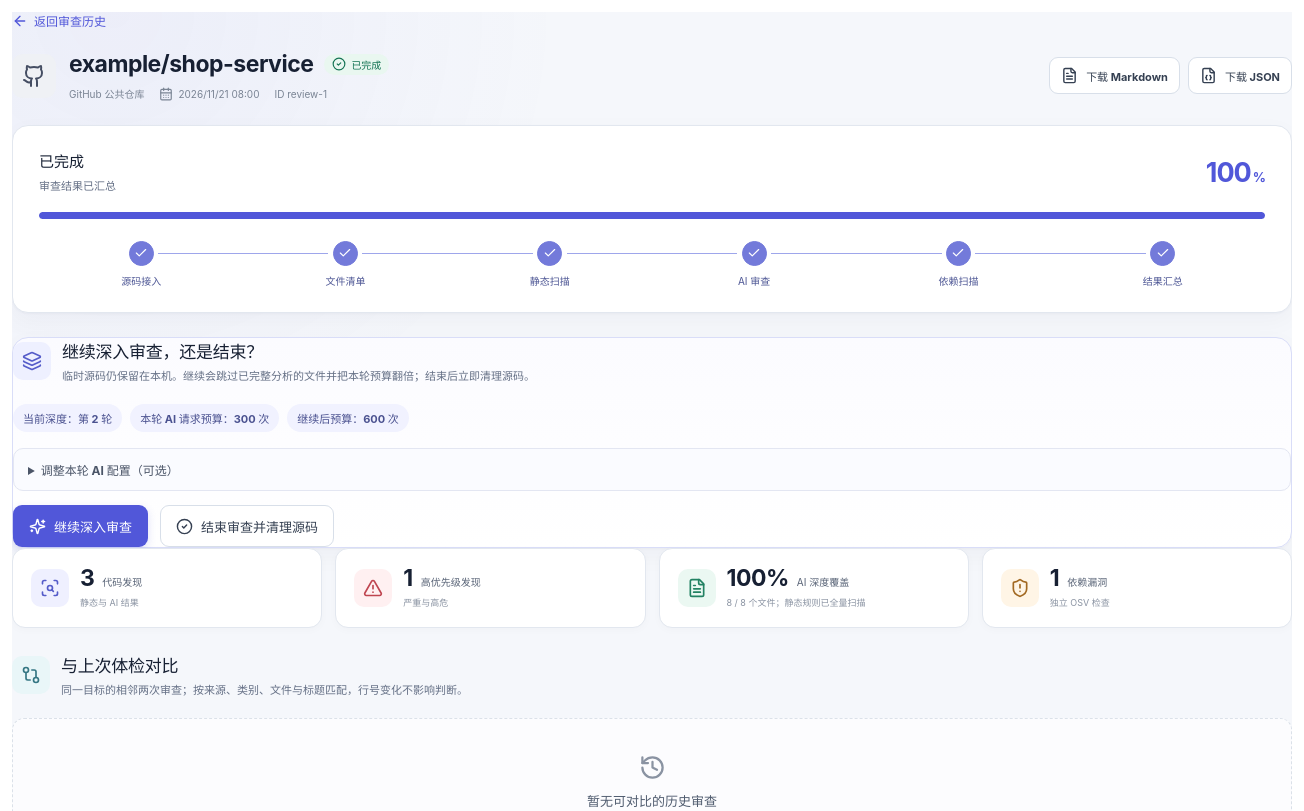
it: ReviewDetailPage › 首轮完成后提供继续深入与结束审查的选择
Check: the heading "继续深入审查，还是结束？" is shown, box 62,342 -> 263,362
Check: the text "当前深度：第 2 轮" is shown, box 13,404 -> 122,432
Click the button "结束审查并清理源码": (247, 526) 160,505 -> 334,547
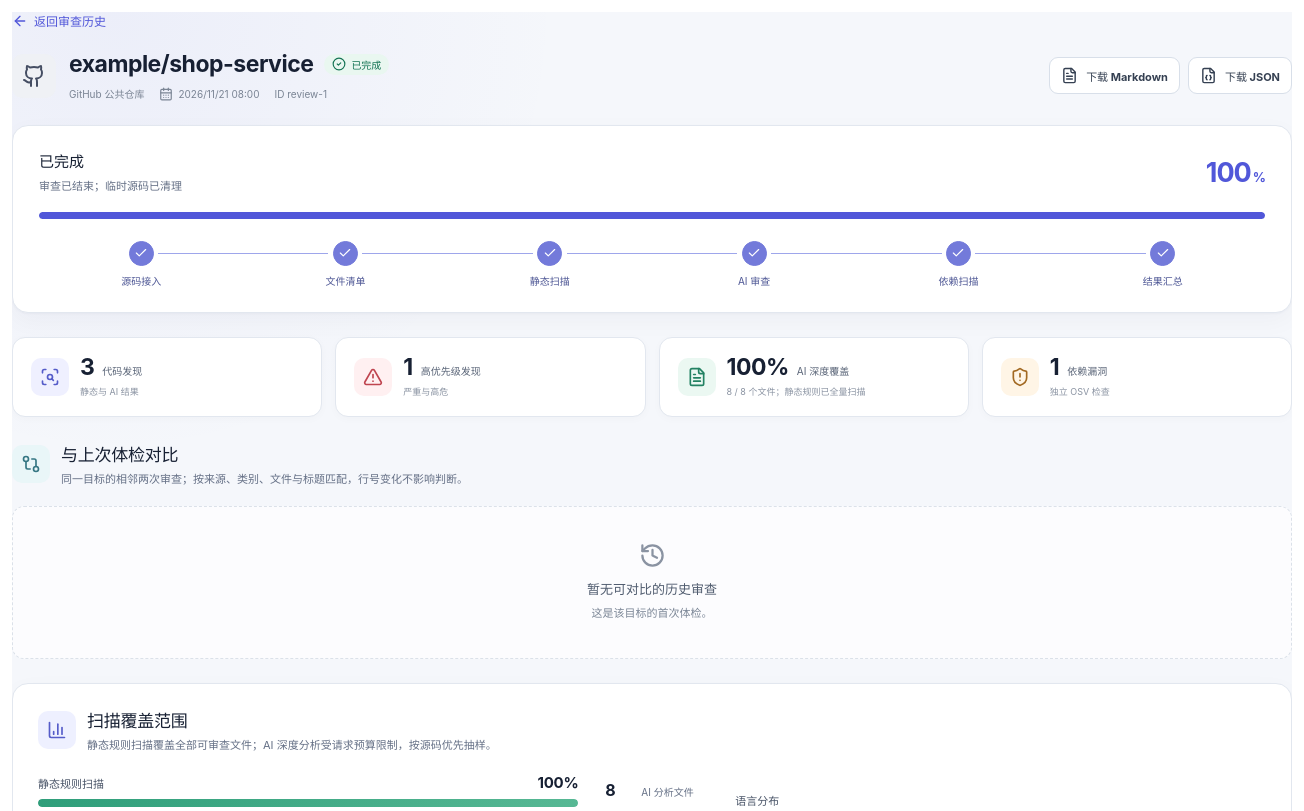
Check: the heading "继续深入审查，还是结束？" is gone
